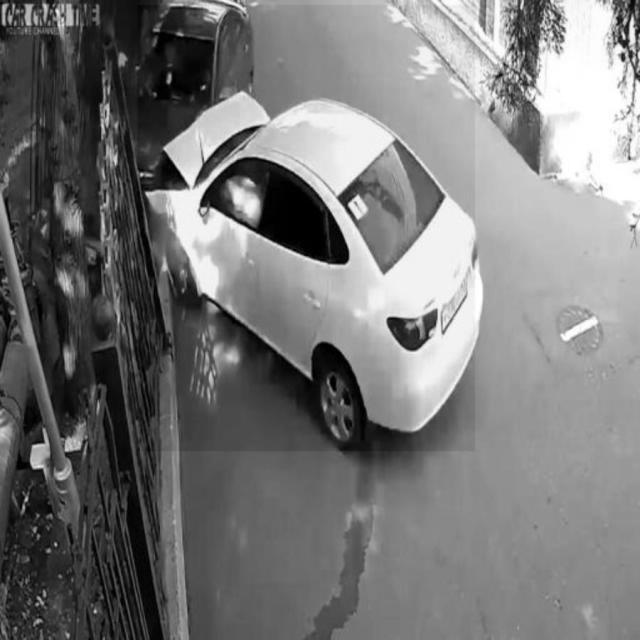accident: (139, 6, 476, 452)
